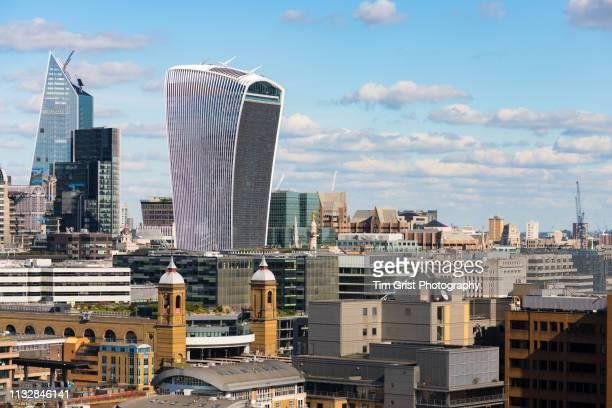Walkie talkie: (155, 50, 286, 248)
